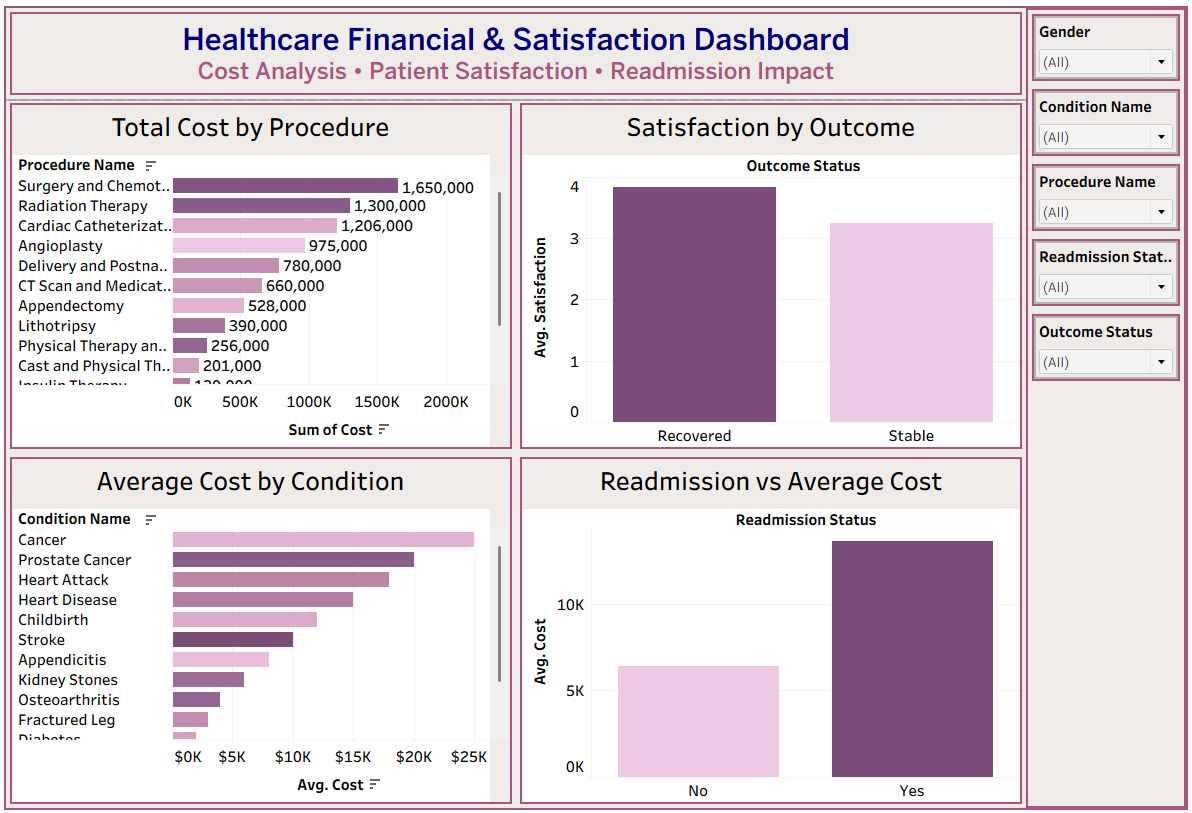

What the dashboard file says about the page in this screenshot:
{"tool":"tableau","page":{"name":"Financial and Satisfaction Analysis","canvas":[1000,1000],"units":"permille","ordinal":2},"visuals":[{"type":"title","box":[8.3,12.2,850,111]},{"type":"filter","title":"Average Cost by Condition","param":"[federated.09amc9a0nf9yrx1ezv74z11mnc8v].[none:gender:nk]","box":[860,14.6,130,91.5]},{"type":"filter","title":"Average Cost by Condition","param":"[federated.09amc9a0nf9yrx1ezv74z11mnc8v].[none:condition_name:nk]","box":[860,106.1,130,91.5]},{"type":"worksheet","title":"Total Cost by Procedure","mark":"Automatic","rows":["procedure_name"],"cols":["cost"],"box":[8.3,123.2,425,432.3]},{"type":"worksheet","title":"Satisfaction by Outcome","mark":"Automatic","rows":["satisfaction"],"cols":["outcome_status"],"box":[433.3,123.2,425,432.3]},{"type":"filter","title":"Average Cost by Condition","param":"[federated.09amc9a0nf9yrx1ezv74z11mnc8v].[none:procedure_name:nk]","box":[860,197.6,130,91.5]},{"type":"filter","title":"Average Cost by Condition","param":"[federated.09amc9a0nf9yrx1ezv74z11mnc8v].[none:readmission_status:nk]","box":[860,289.1,130,91.5]},{"type":"filter","title":"Average Cost by Condition","param":"[federated.09amc9a0nf9yrx1ezv74z11mnc8v].[none:outcome_status:nk]","box":[860,380.5,130,91.5]},{"type":"worksheet","title":"Average Cost by Condition","mark":"Automatic","rows":["condition_name"],"cols":["cost"],"box":[8.3,555.5,425,432.3]},{"type":"worksheet","title":"Readmission vs Average Cost","mark":"Automatic","rows":["cost"],"cols":["readmission_status"],"box":[433.3,555.5,425,432.3]}]}

Visuals, with their boxes on the dashboard's canvas, which has no fixed pixel size, in thousandths of its width and height (x1, y1, x2, y2). These are canvas units, not pixel positions in the 1192x813 screenshot, which may show the page scaled, cropped or inside an application window:
title: [x1=8, y1=12, x2=858, y2=123]
"Average Cost by Condition" filter: [x1=860, y1=15, x2=990, y2=106]
"Average Cost by Condition" filter: [x1=860, y1=106, x2=990, y2=198]
"Total Cost by Procedure" worksheet: [x1=8, y1=123, x2=433, y2=556]
"Satisfaction by Outcome" worksheet: [x1=433, y1=123, x2=858, y2=556]
"Average Cost by Condition" filter: [x1=860, y1=198, x2=990, y2=289]
"Average Cost by Condition" filter: [x1=860, y1=289, x2=990, y2=381]
"Average Cost by Condition" filter: [x1=860, y1=380, x2=990, y2=472]
"Average Cost by Condition" worksheet: [x1=8, y1=556, x2=433, y2=988]
"Readmission vs Average Cost" worksheet: [x1=433, y1=556, x2=858, y2=988]
